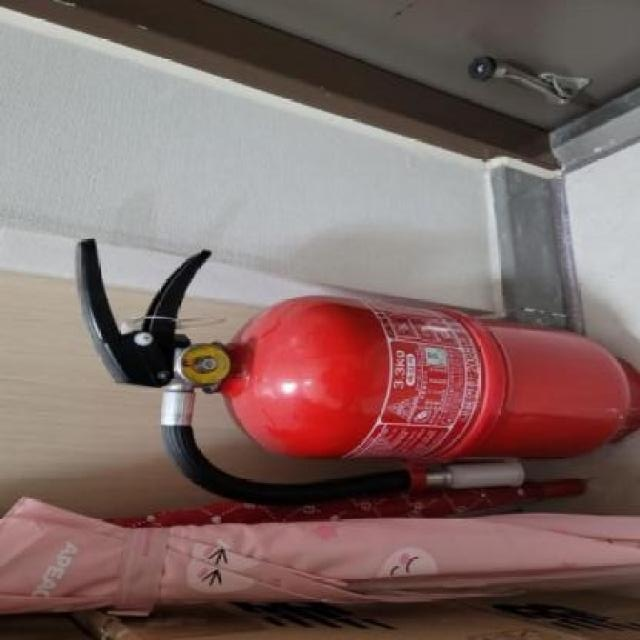fire extinguisher: (74, 237, 640, 508)
